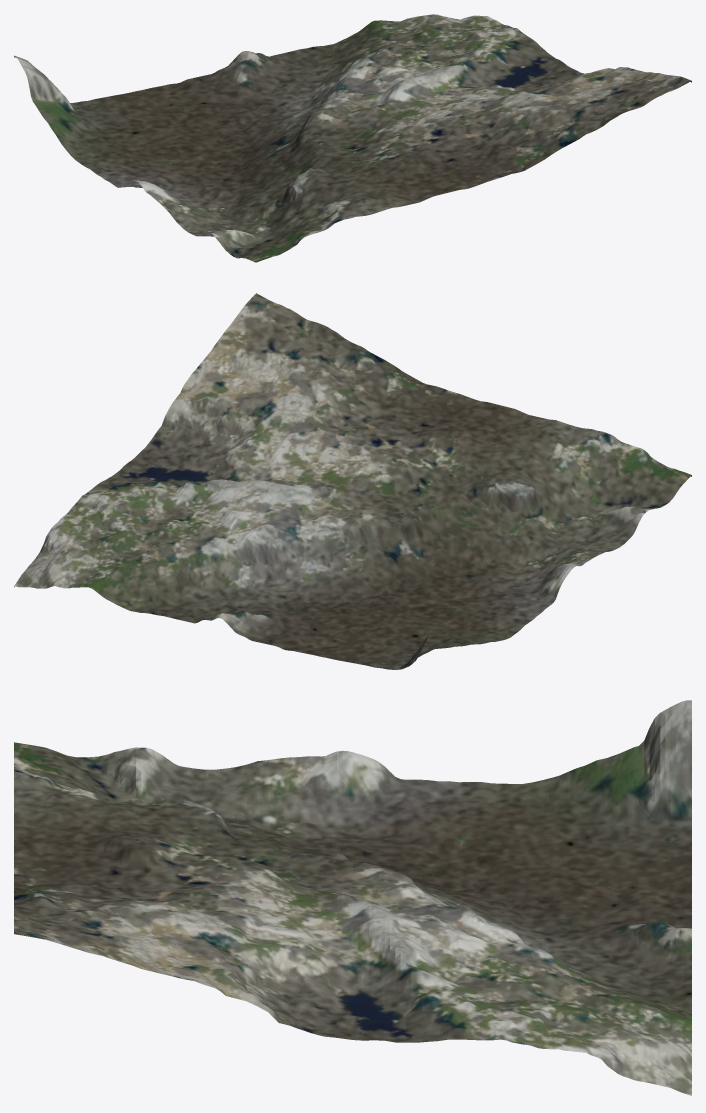
The picture shows the model from 3 angles, top to bottom: view 1: azimuth 30°, elevation 25°; view 2: azimuth 150°, elevation 25°; view 3: azimuth 270°, elevation 25°; orthographic projection. The views are drawn at different scales.
Bounding box in the file's own units: 250 × 64.51 × 241.
1 material, 1 textured.
